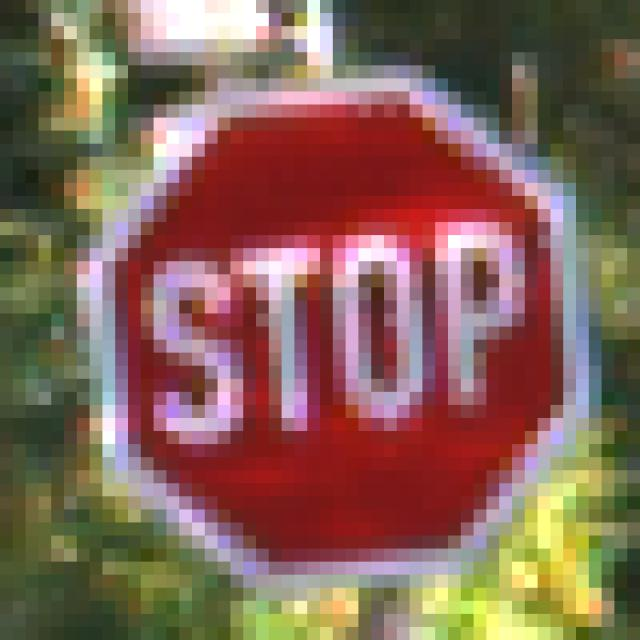STOP: (78, 66, 564, 576)
